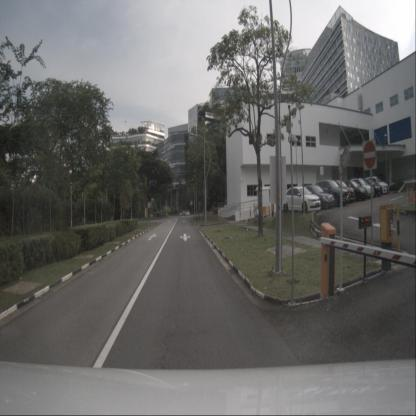vehicle-car: (284, 184, 322, 214), (314, 180, 349, 208), (304, 184, 335, 210), (327, 179, 355, 202), (339, 180, 368, 201), (350, 177, 374, 198), (365, 175, 390, 194), (362, 178, 382, 196)
